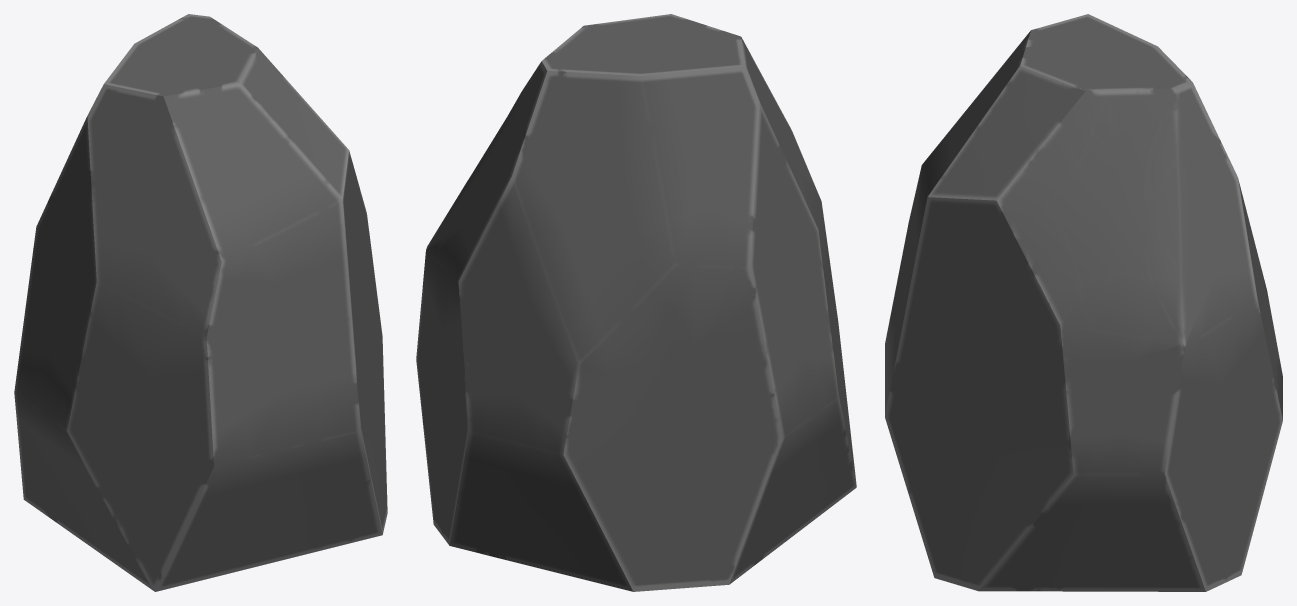
File: tall rock.fbx
3 renders of one model, left to right at view 1: azimuth 30°, elevation 25°; view 2: azimuth 150°, elevation 25°; view 3: azimuth 270°, elevation 25°, orthographic. The views are drawn at different scales.
Visible parts, largest first — view 1: Cube; view 2: Cube; view 3: Cube.
Part boxes in pixels (x1,y1,x2,y2): Cube: (14, 14, 387, 591); Cube: (416, 14, 856, 591); Cube: (885, 14, 1282, 591).
Bounding box in the file's own units: 291 × 372 × 291.
